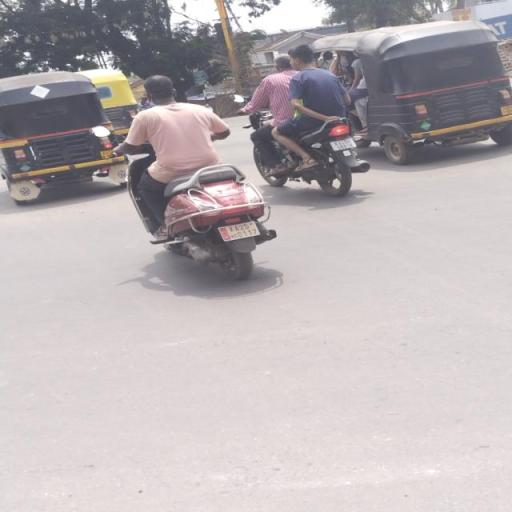bike: (86, 70, 280, 284)
numberplate: (215, 212, 263, 244)
withouthelmet: (144, 76, 175, 100)
